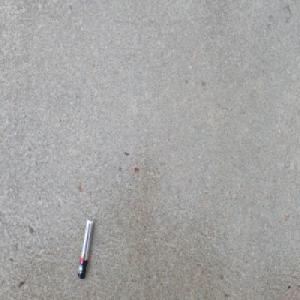Battery: (76, 215, 94, 280)
